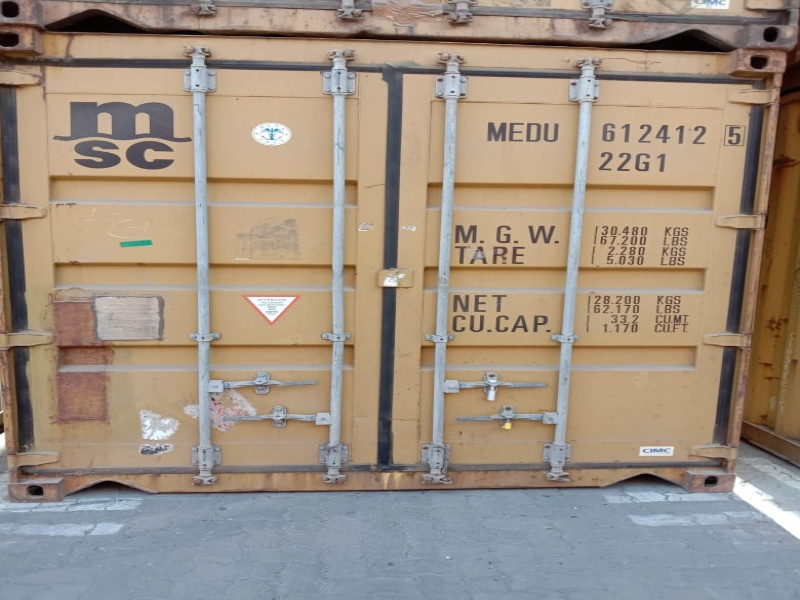iso: (599, 149, 668, 176)
mgw: (449, 217, 695, 248)
serial: (480, 113, 753, 147)
